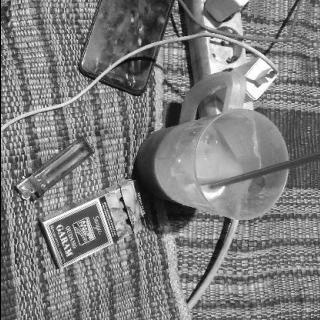objects: (39, 180, 145, 269)
